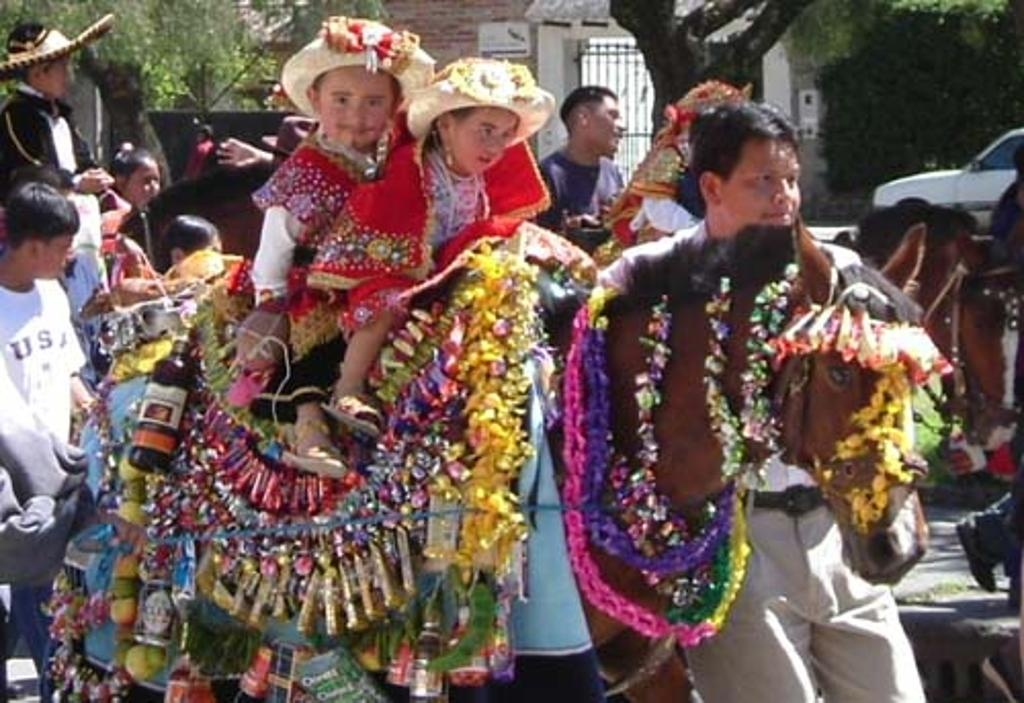human_face: (719, 144, 799, 236), (318, 66, 390, 146), (450, 110, 516, 172), (32, 228, 72, 278), (587, 100, 625, 150), (121, 159, 159, 209), (36, 49, 78, 93), (185, 236, 221, 284)
